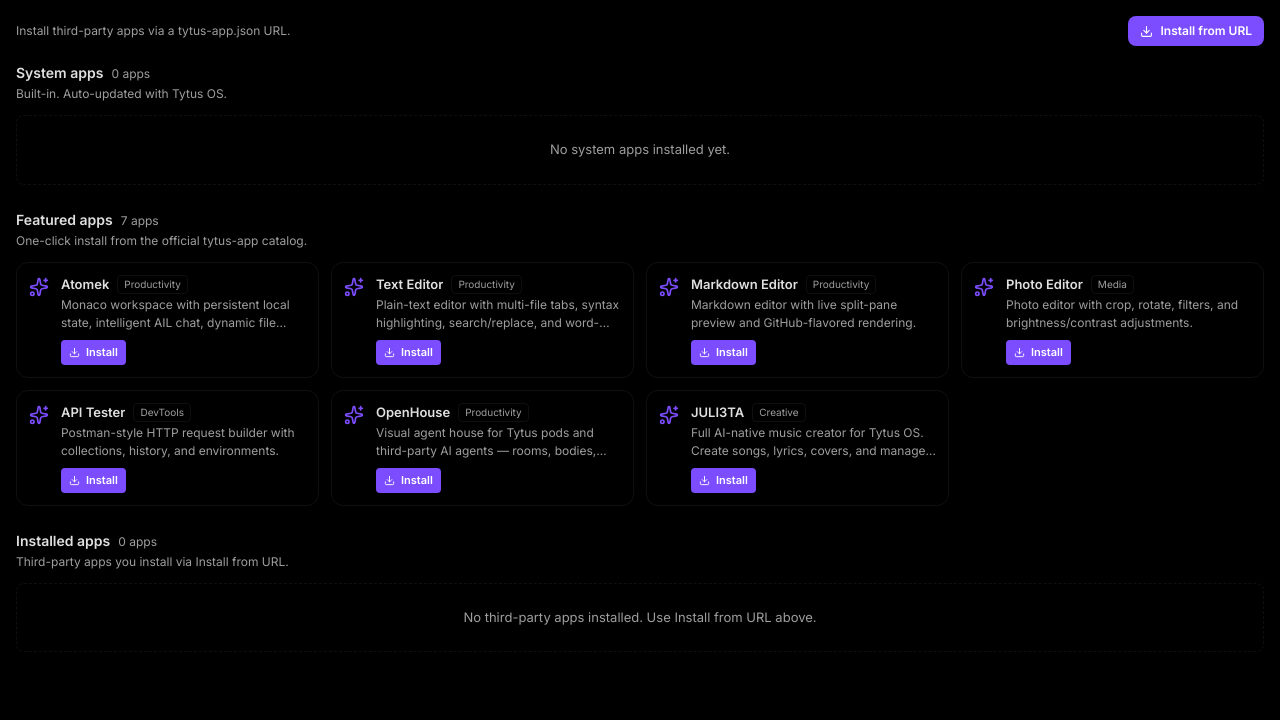
Test: TytusAppsTab › renders InstallerError details inside the modal on failure
The image size is (1280, 720).
Click the button with test id "tytus-apps-install-from-url" at (1196, 31), box [1128,16,1264,46]
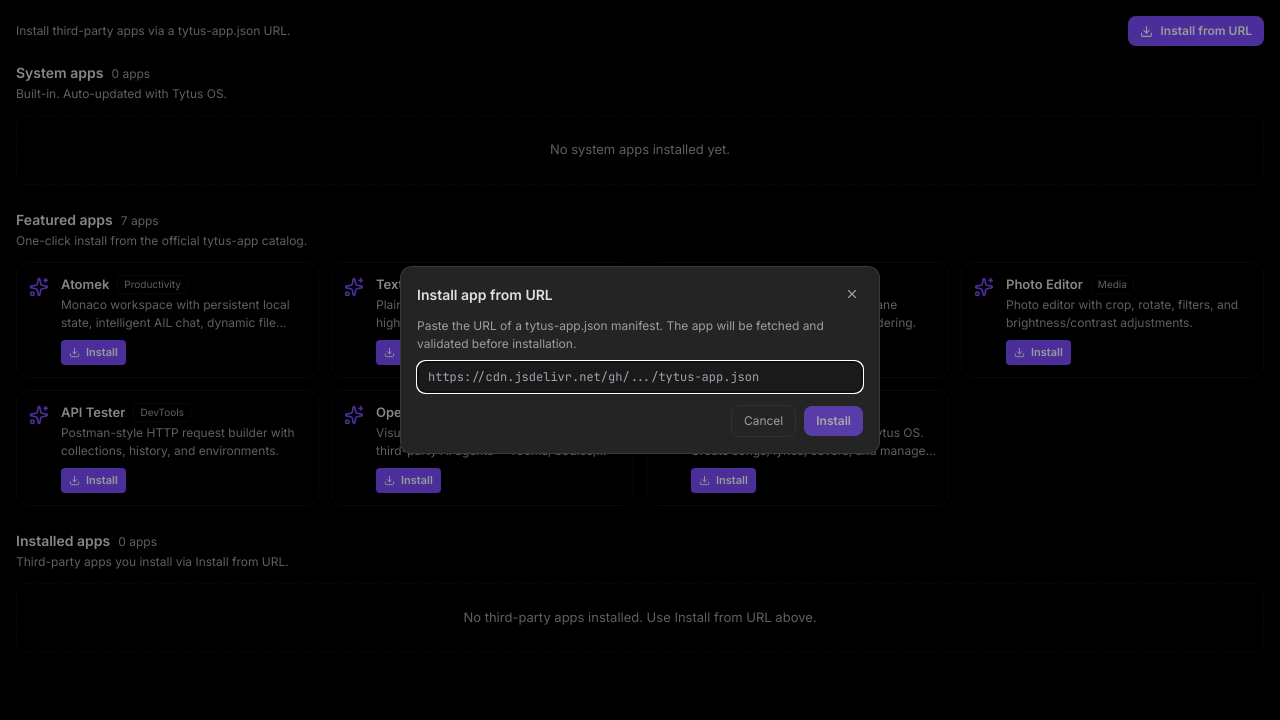
Type "https://x/y" into the field with test id "tytus-apps-install-modal-input" at (640, 377), box [417,361,863,393]
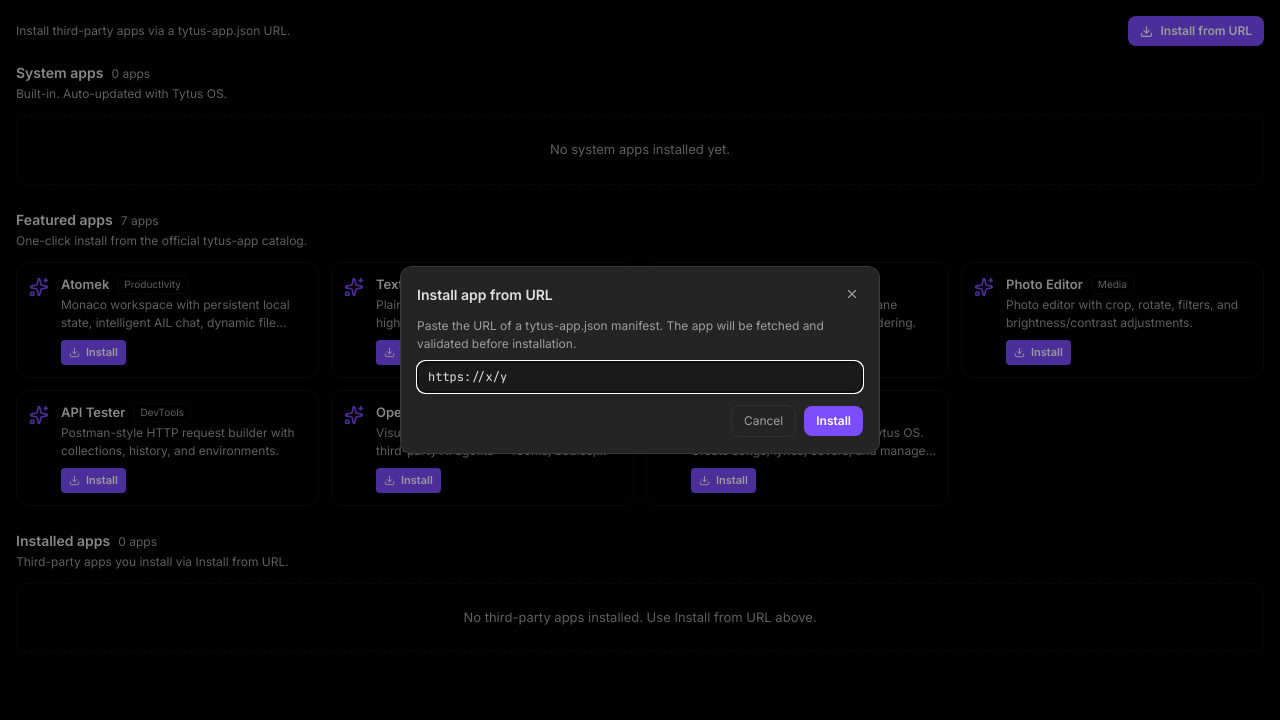
Click the button with test id "tytus-apps-install-modal-submit" at (834, 421), box [804,406,863,436]
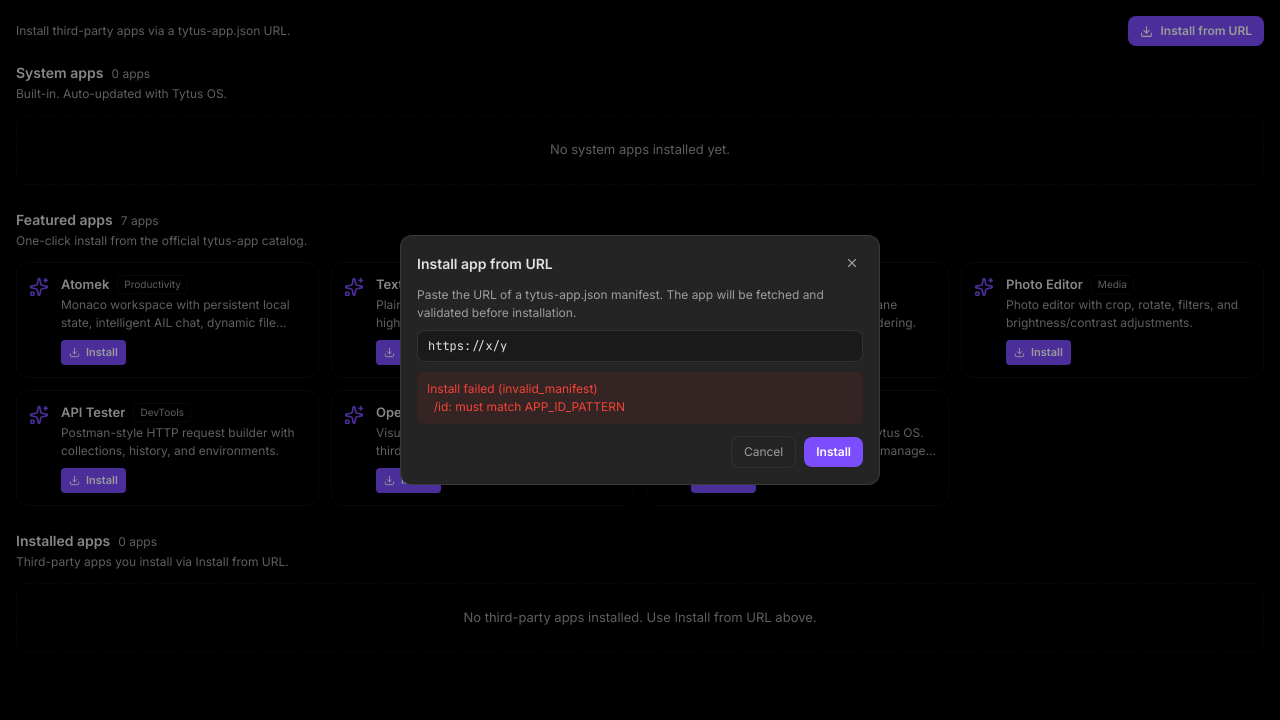
Expected: the element with test id "tytus-apps-install-modal" is shown
Expected: the text with test id "tytus-apps-install-modal-error" shows "invalid_manifest", [427,381,625,414]
Expected: the text with test id "tytus-apps-install-modal-error" shows "must match APP_ID_PATTERN", [427,381,625,414]
